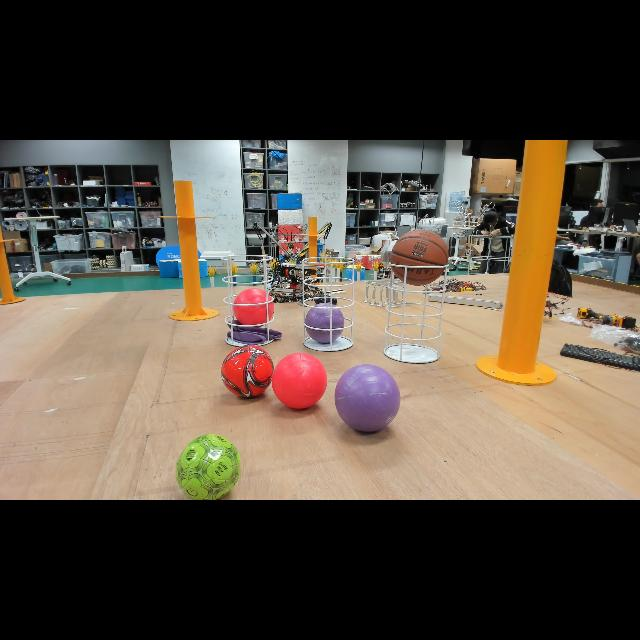P: (333, 362, 403, 436), (302, 300, 348, 346)
R: (270, 351, 330, 414), (232, 287, 276, 329)
S: (384, 256, 450, 364), (220, 254, 276, 348), (301, 256, 355, 352)
